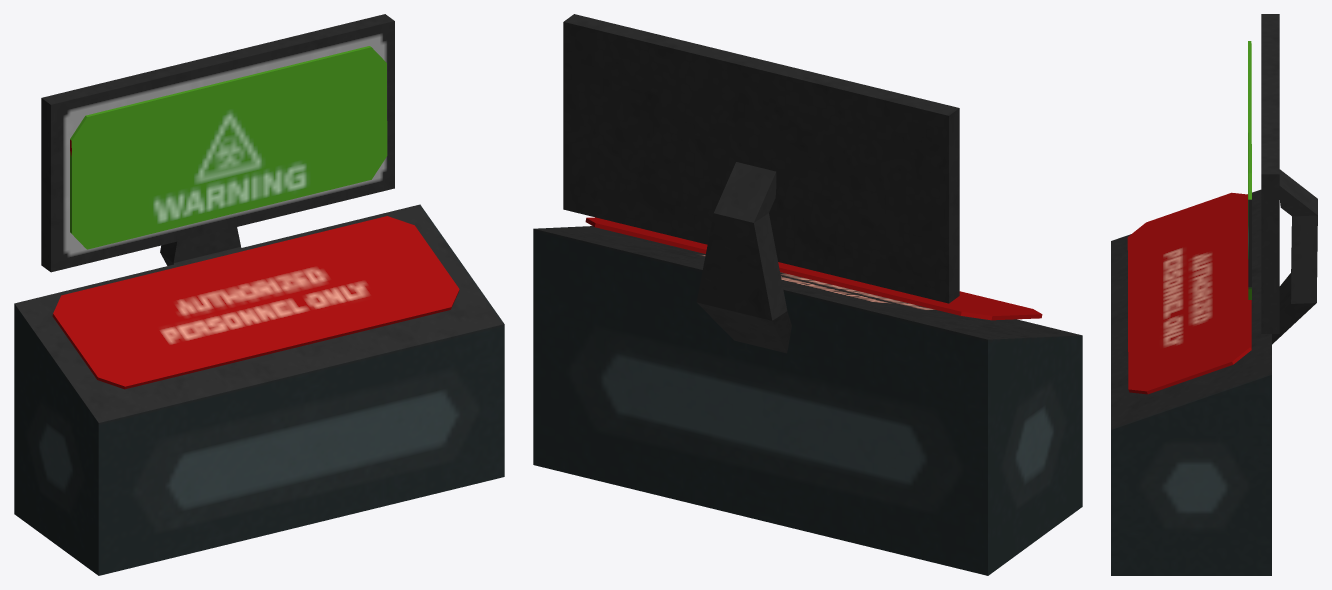
File: SM_ComputerDesk.fbx
3 renders of one model, left to right at view 1: azimuth 30°, elevation 25°; view 2: azimuth 150°, elevation 25°; view 3: azimuth 270°, elevation 25°, orthographic. The views are drawn at different scales.
Visible parts, largest first — view 1: SM_ComputerDesk; view 2: SM_ComputerDesk; view 3: SM_ComputerDesk.
Boxes of the visible parts, x1=… form: SM_ComputerDesk: x1=14, y1=14, x2=504, y2=575; SM_ComputerDesk: x1=533, y1=14, x2=1082, y2=575; SM_ComputerDesk: x1=1111, y1=14, x2=1317, y2=575.
Size of the model in its own units: 0.45 by 0.4301 by 0.2082.
Materials: 1 (1 with a texture image).
